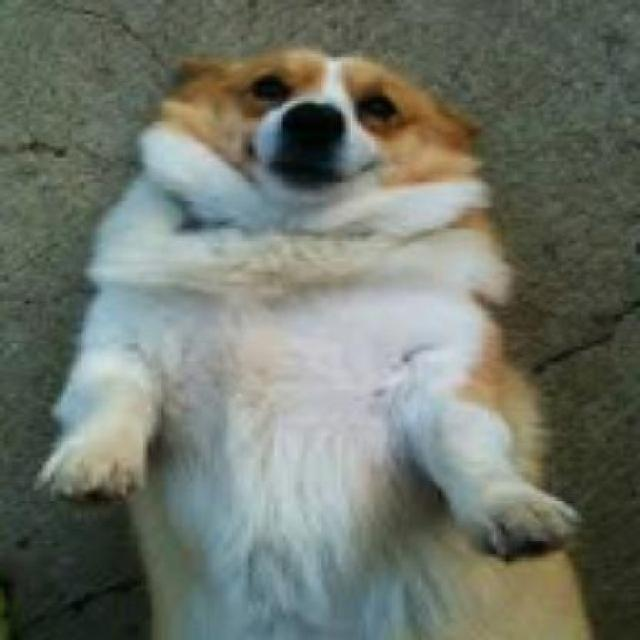Dog: (35, 34, 592, 638)
